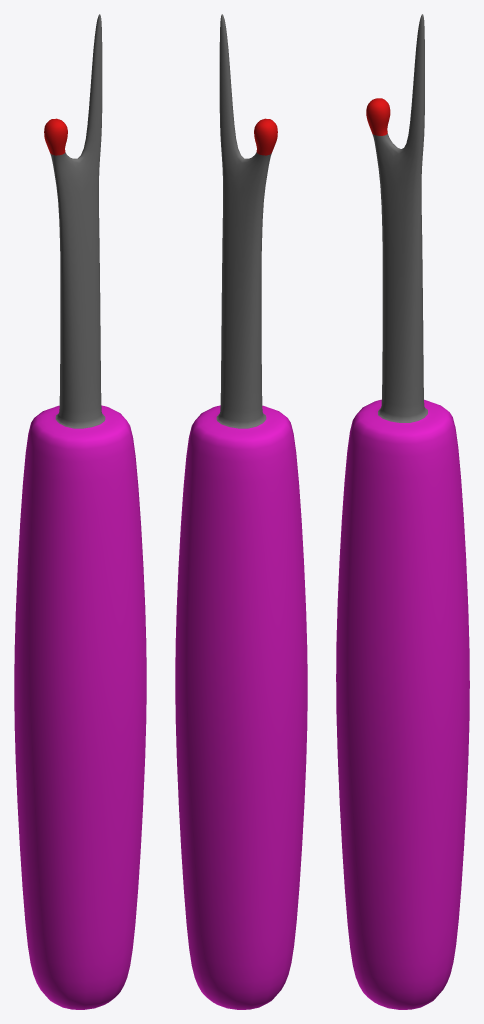
The model's file is SeamRipper.fbx.
3 views of the same model, side by side, from view 1: azimuth 30°, elevation 25°; view 2: azimuth 150°, elevation 25°; view 3: azimuth 330°, elevation 25° (orthographic).
Parts seen in each view (by area): view 1: pCube4; view 2: pCube4; view 3: pCube4.
Part boxes in pixels (<box>): pCube4: <box>14,14,146,1009</box>; pCube4: <box>175,14,307,1009</box>; pCube4: <box>336,14,469,1009</box>.
Size of the model in its own units: 0.5045 by 4.17 by 0.5045.
